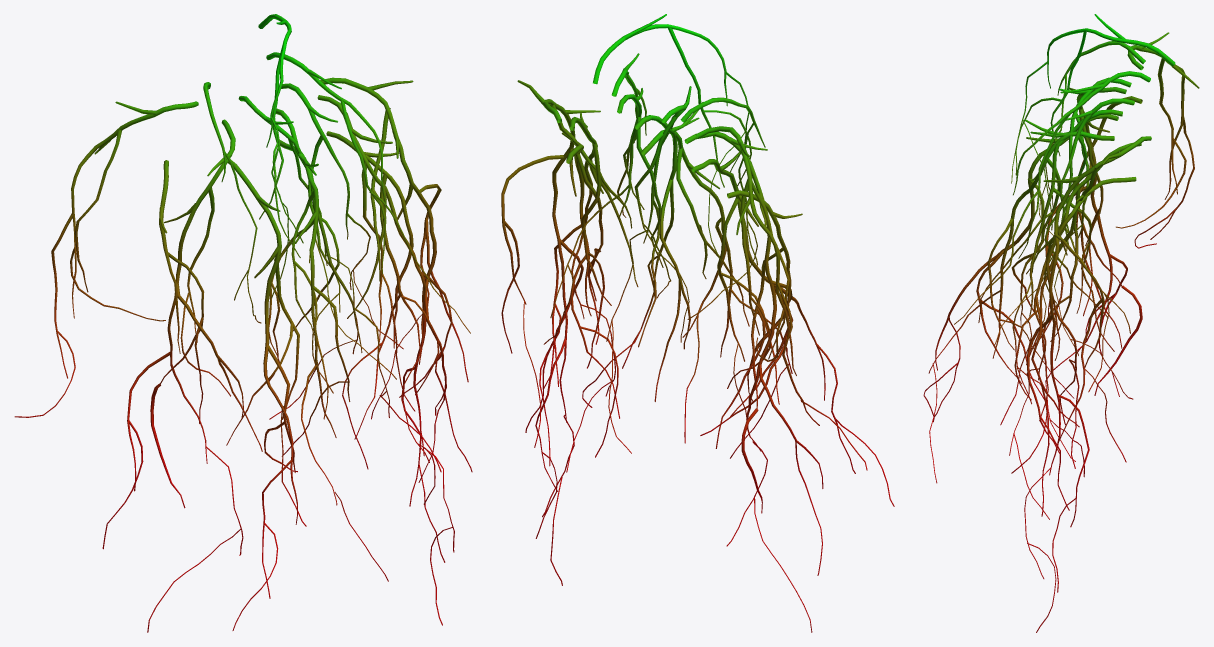
File: Var13_LOD1.fbx
The picture shows the model from 3 angles, left to right: view 1: azimuth 30°, elevation 25°; view 2: azimuth 150°, elevation 25°; view 3: azimuth 270°, elevation 25°; orthographic projection. The views are drawn at different scales.
Parts seen in each view (by area): view 1: _juk8_Var13_LOD1; view 2: _juk8_Var13_LOD1; view 3: _juk8_Var13_LOD1.
Part boxes in pixels (left/top/right/bottom): _juk8_Var13_LOD1: left=14, top=14, right=472, bottom=632; _juk8_Var13_LOD1: left=501, top=14, right=894, bottom=632; _juk8_Var13_LOD1: left=923, top=14, right=1199, bottom=632.
Size of the model in its own units: 116 by 169 by 75.63.
